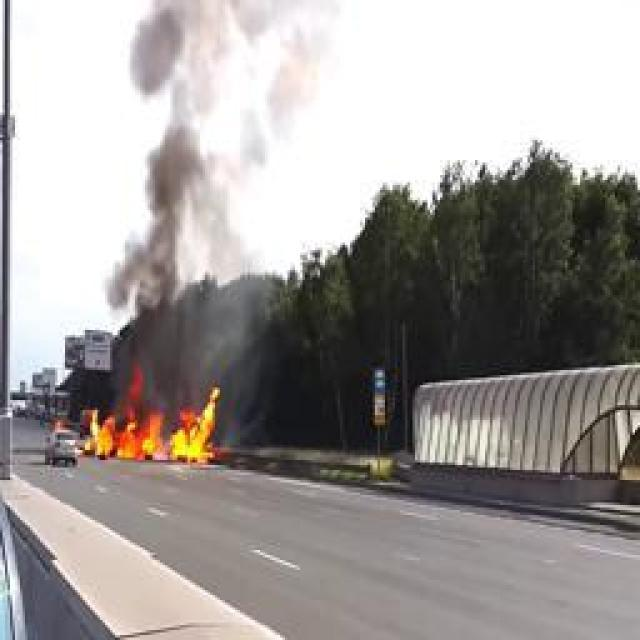Fire: (88, 366, 220, 462)
